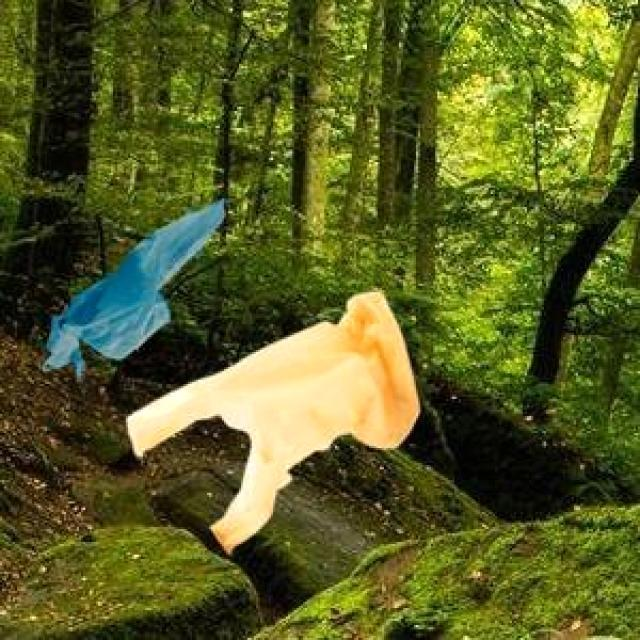Plastic_Bag: (125, 288, 415, 550), (42, 196, 220, 374)
